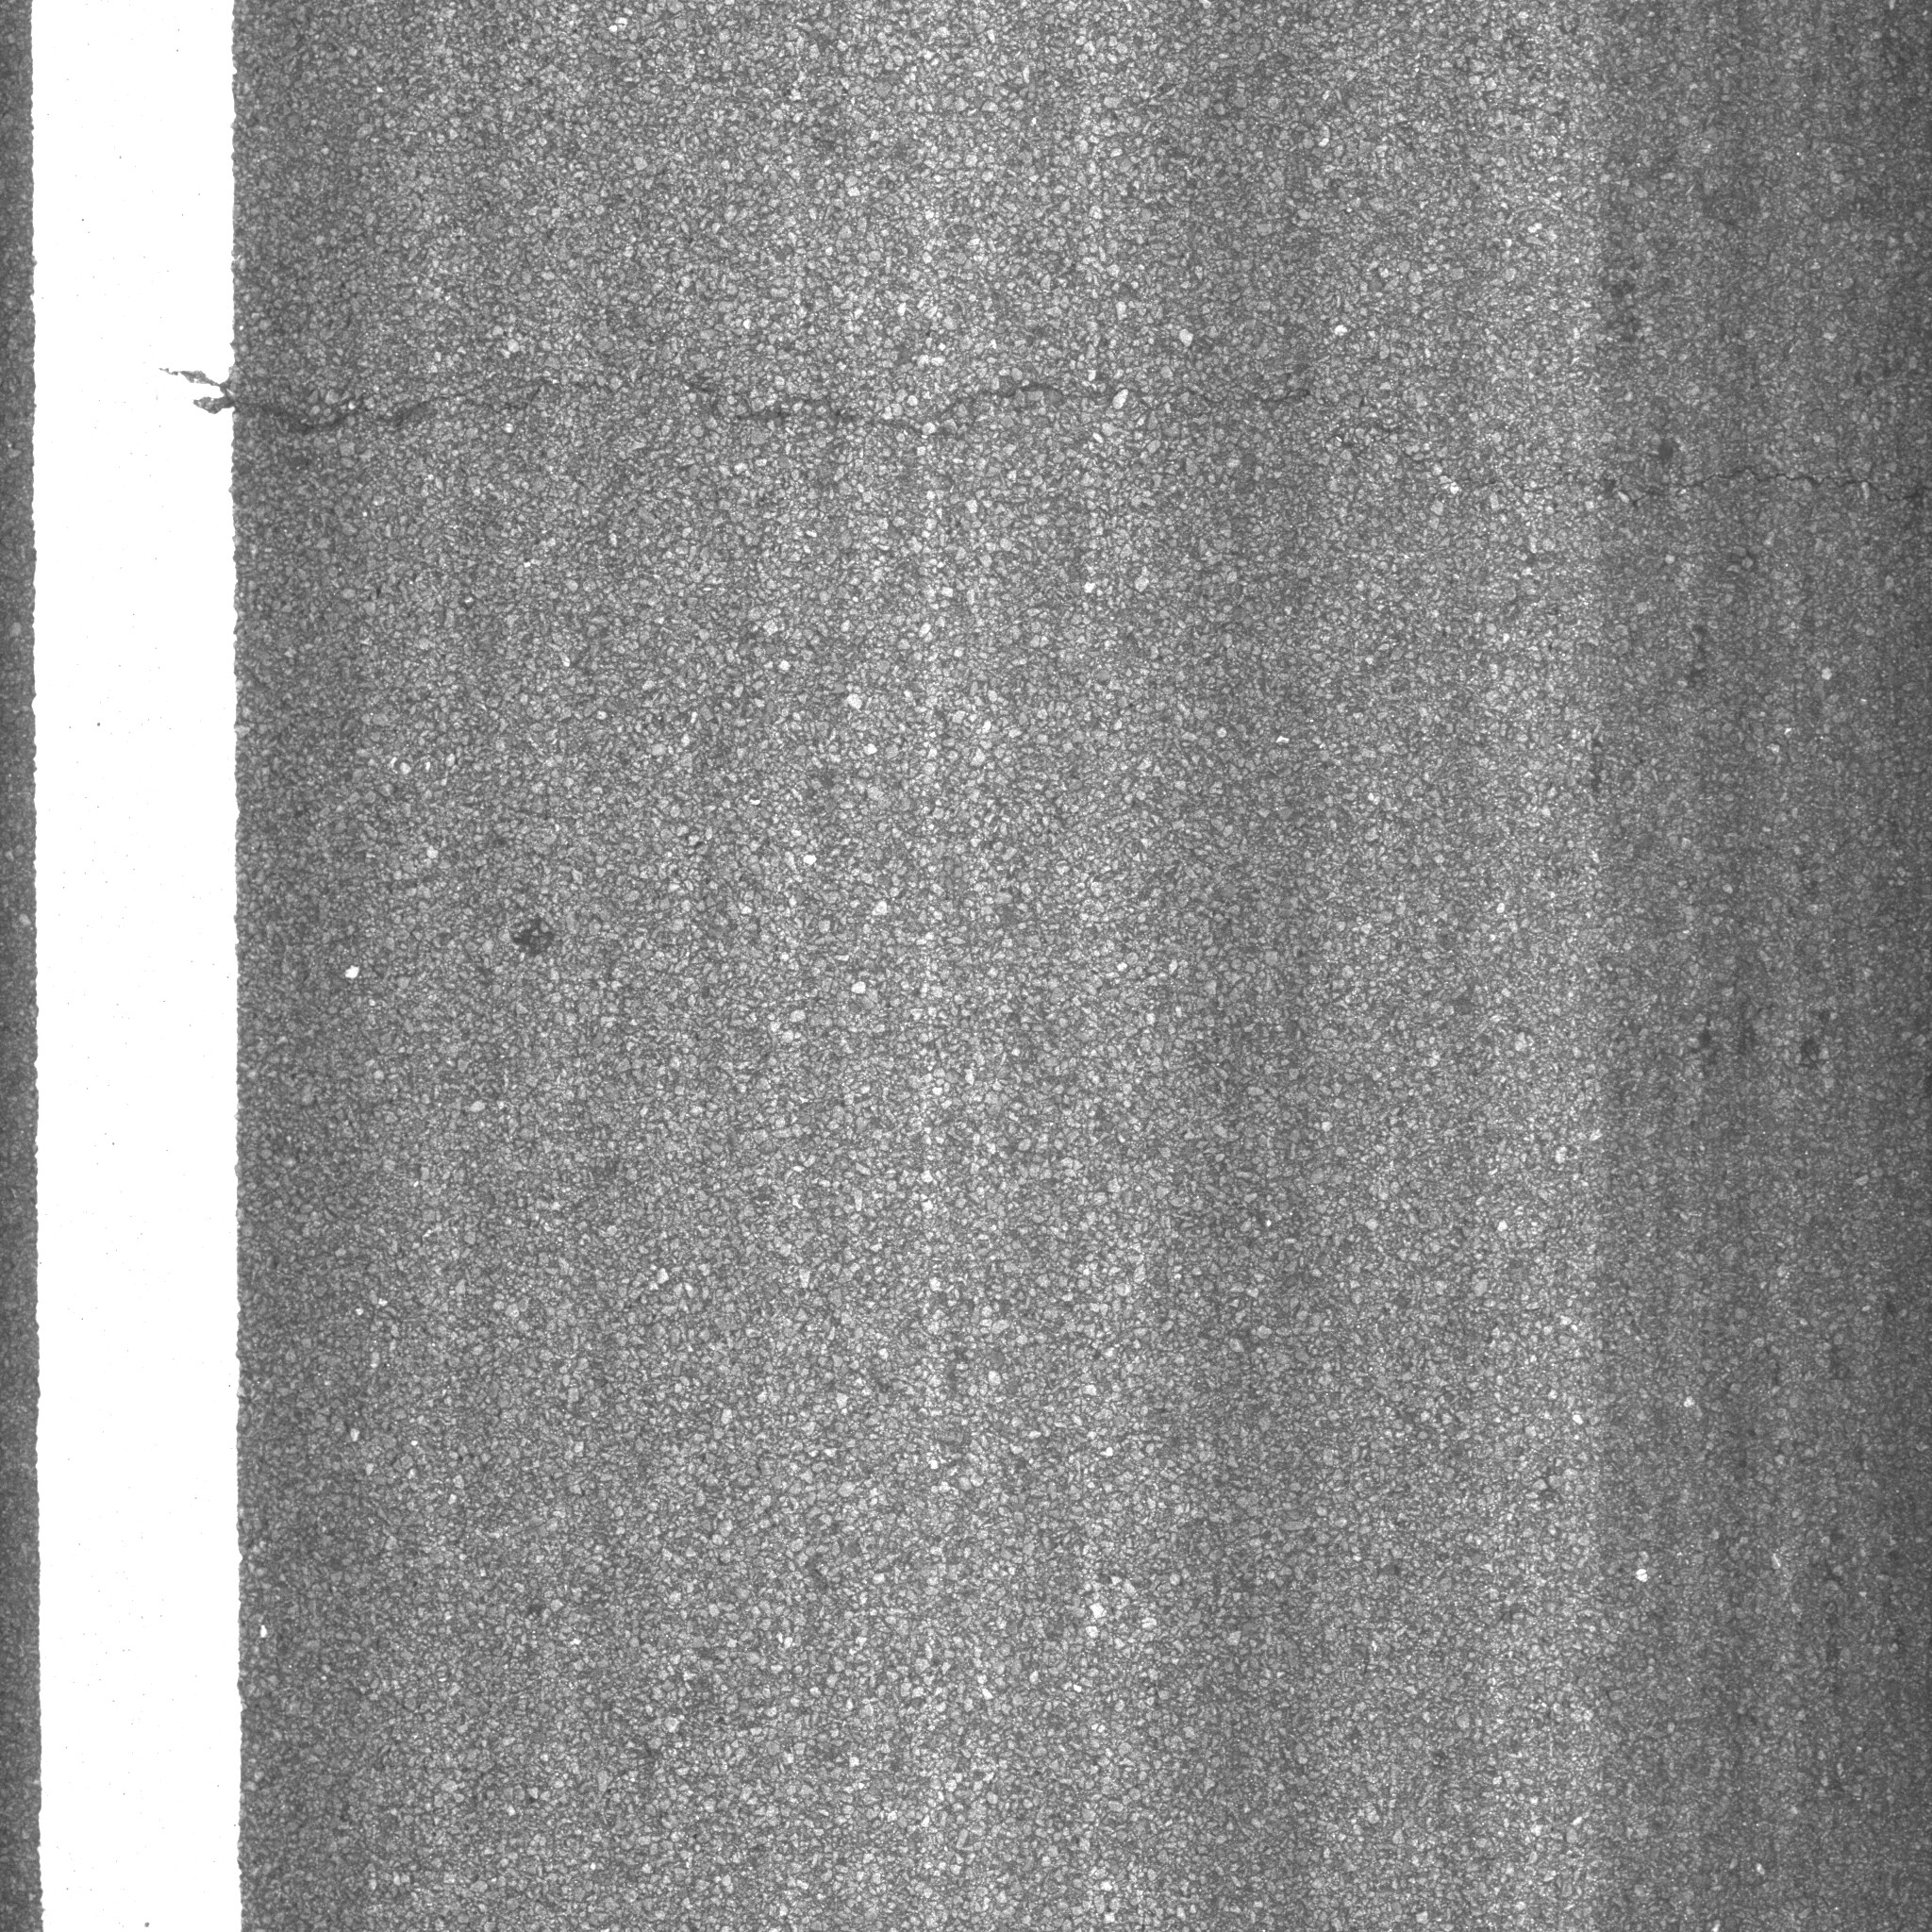transverse: (150, 299, 1166, 474)
